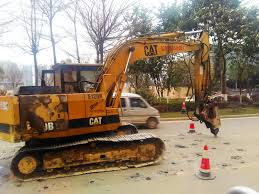excavator: (0, 29, 219, 180)
